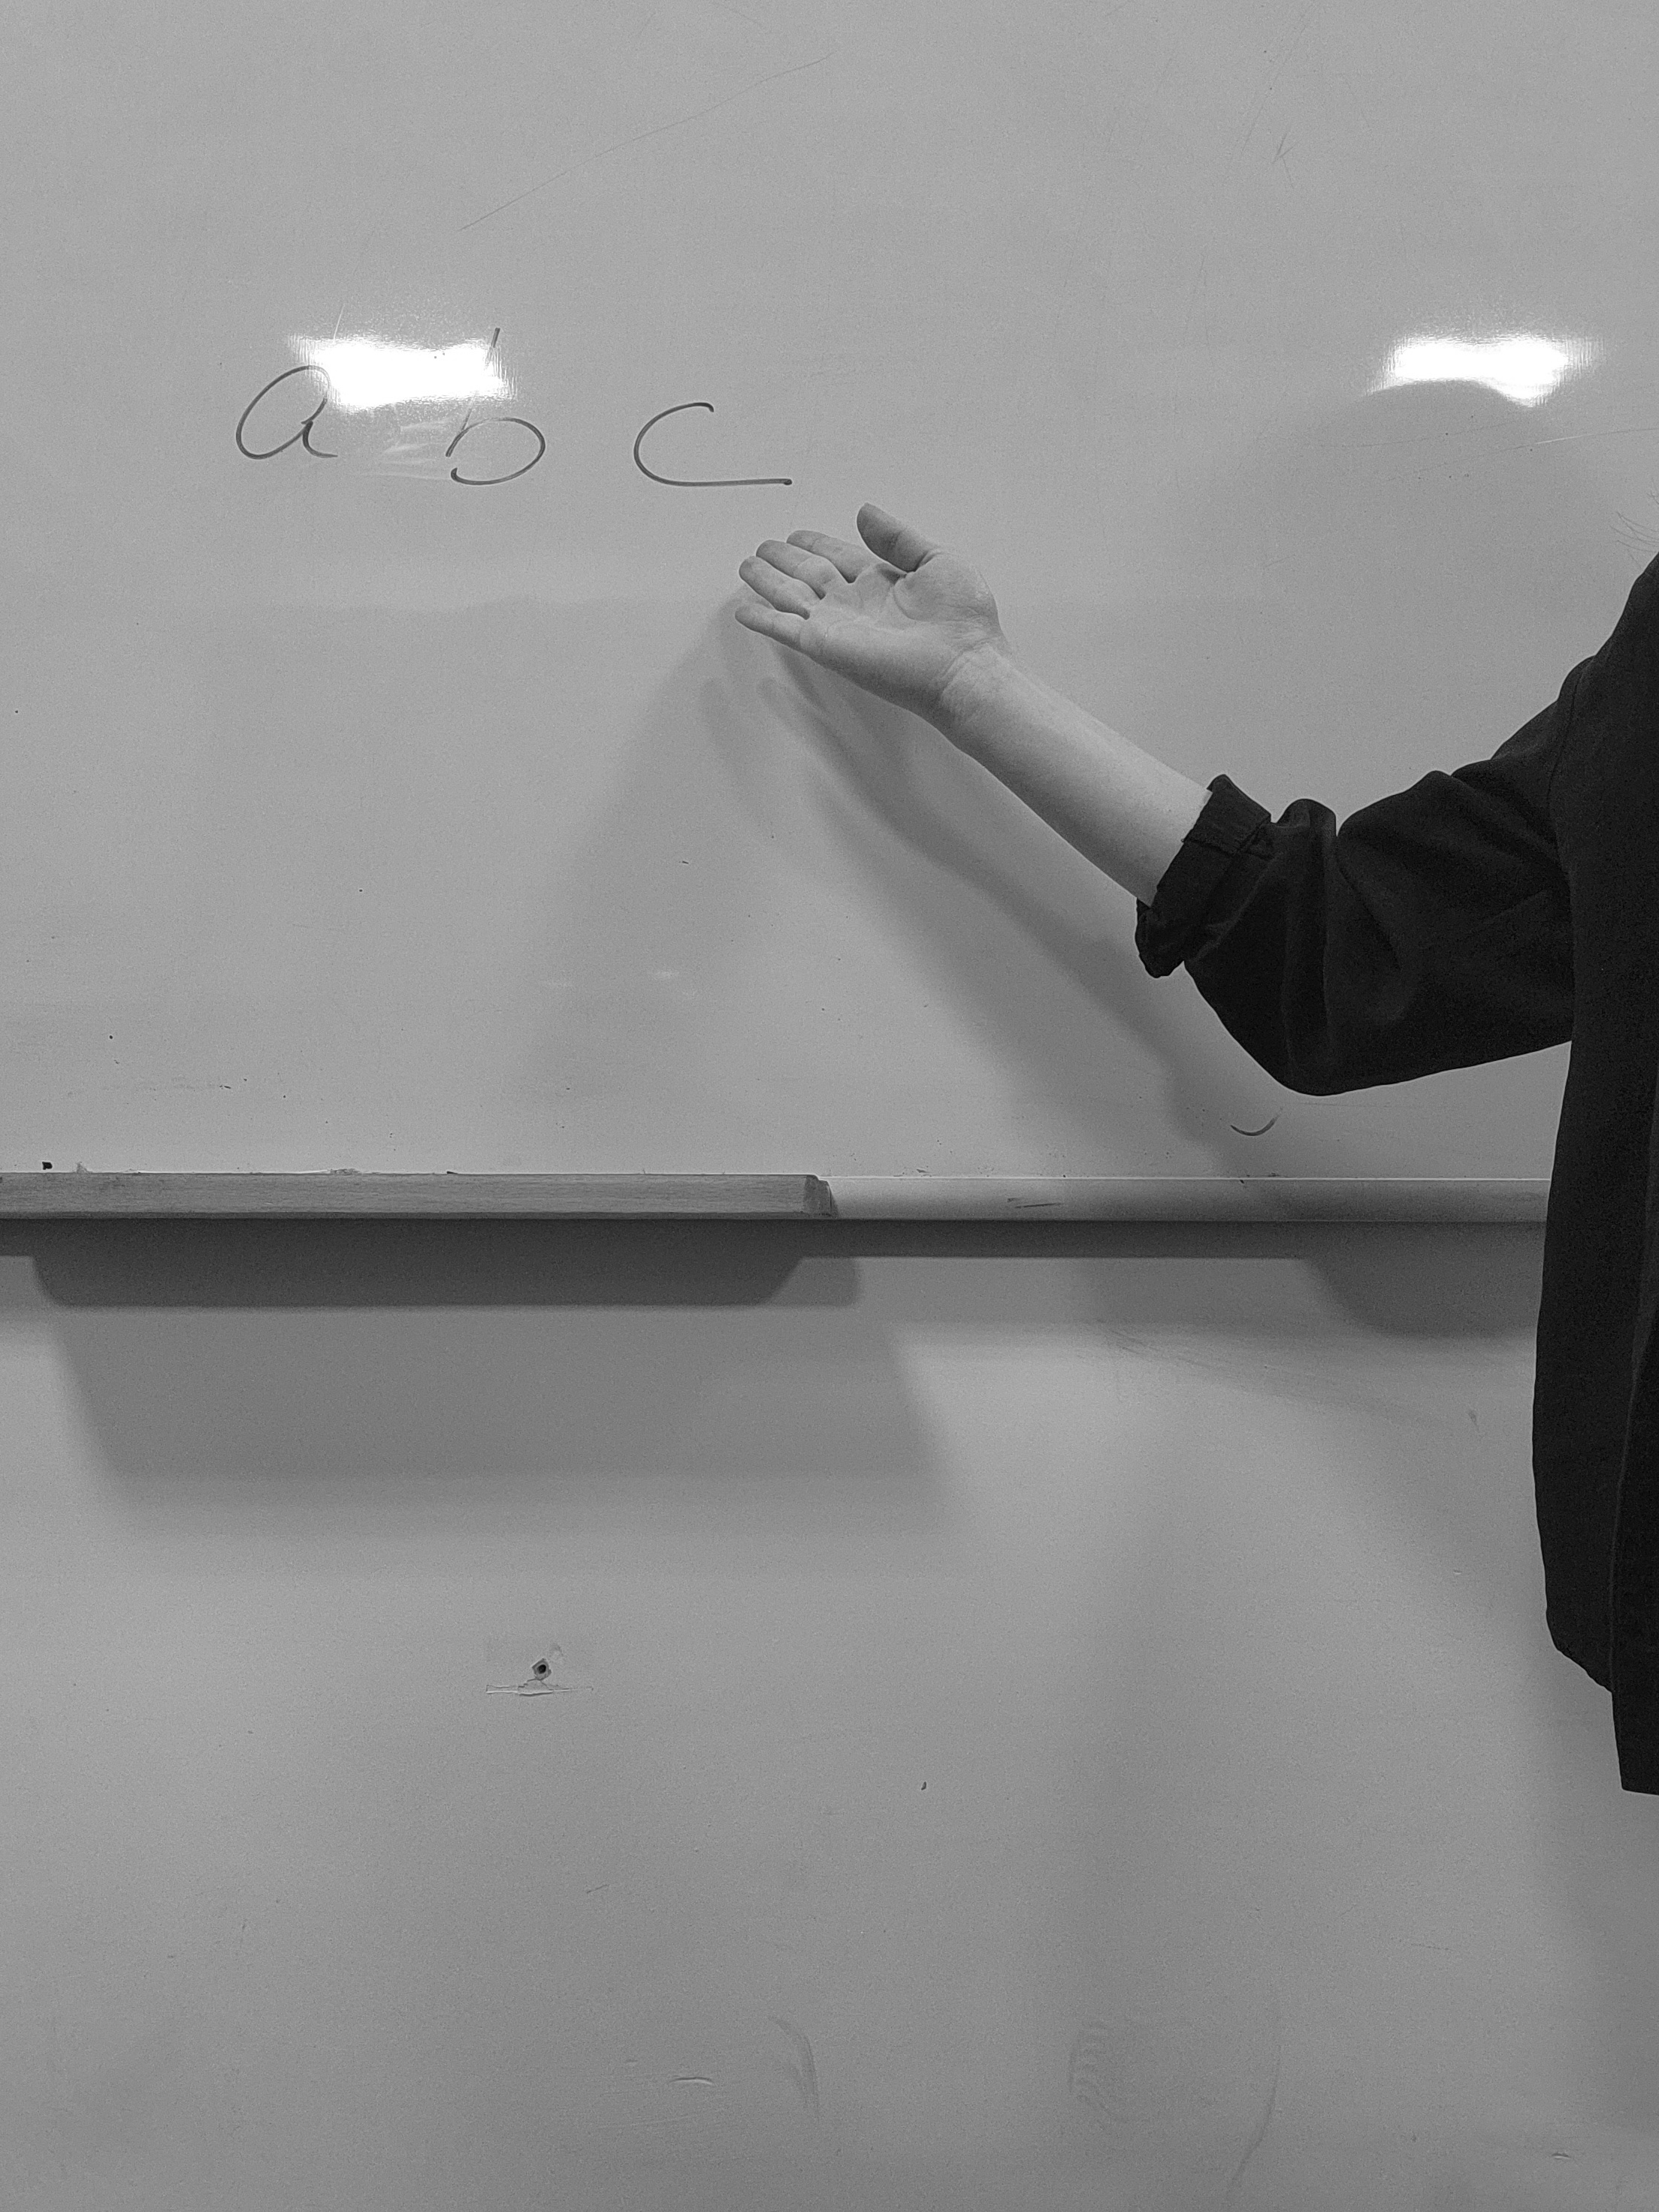pointing_gesture: (734, 507, 1007, 714)
